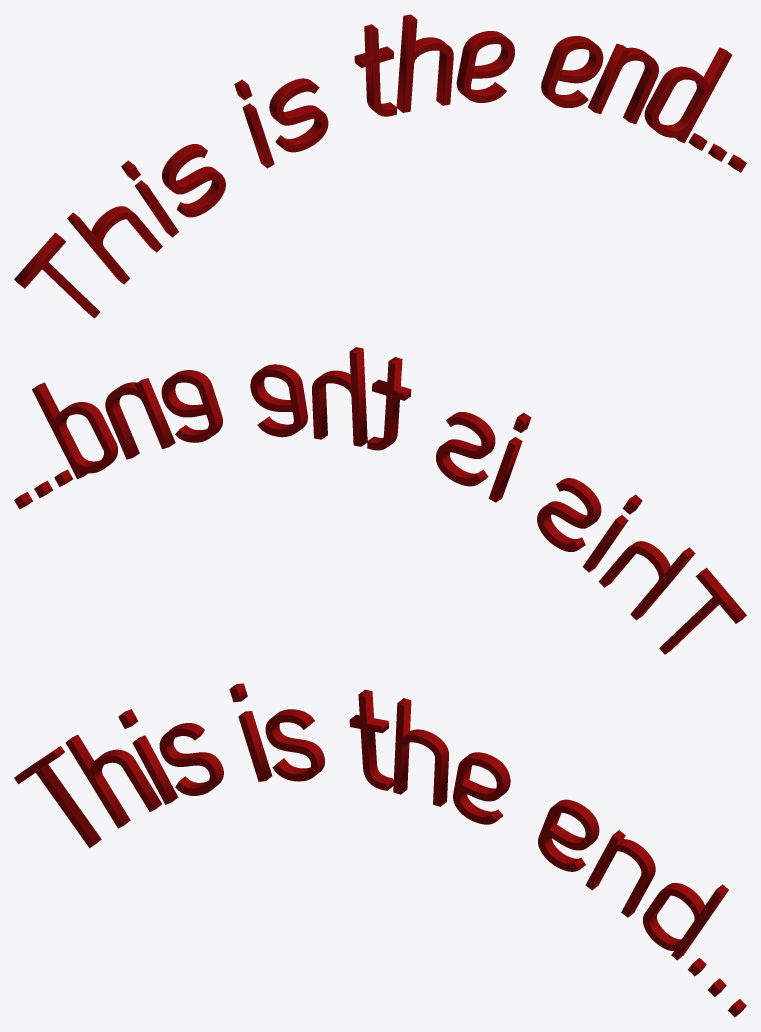
File: negative_text.obj
3 views of the same model, one above another, from view 1: azimuth 30°, elevation 25°; view 2: azimuth 150°, elevation 25°; view 3: azimuth 330°, elevation 25° (orthographic).
Visible parts, largest first — view 1: Text; view 2: Text; view 3: Text.
Part boxes in pixels (x1,y1,x2,y2): Text: (14,14,746,318); Text: (14,347,746,654); Text: (14,683,746,1017).
Bounding box in the file's own units: 10.61 × 3.29 × 0.2682.
